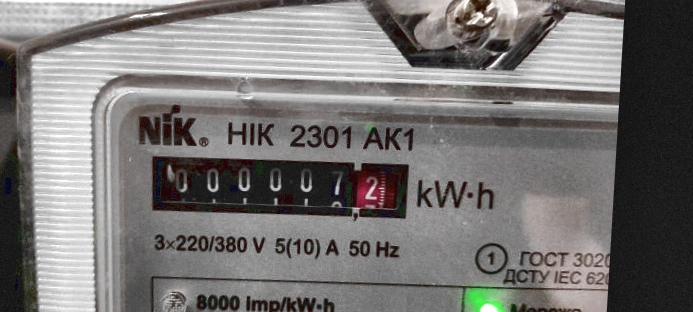0: (171, 165, 190, 193), (265, 164, 284, 192), (234, 163, 252, 192), (203, 165, 221, 193), (297, 165, 314, 194)
2: (362, 174, 380, 201)
7: (328, 166, 345, 197)
screen: (137, 142, 421, 230)
